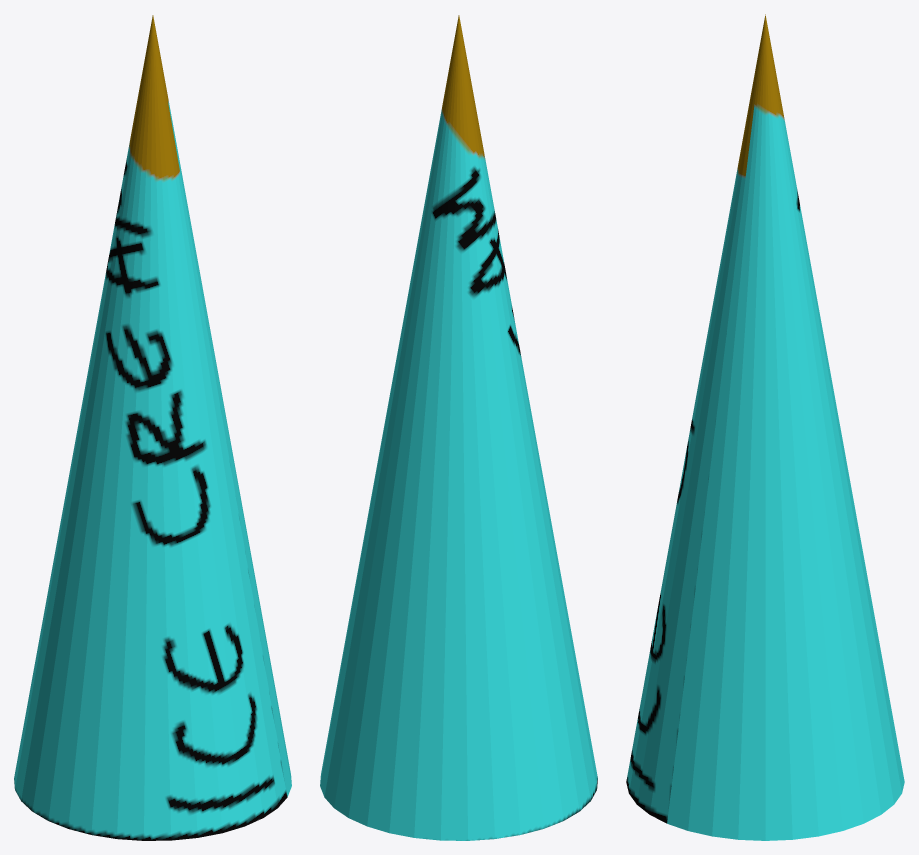
File: icecream.fbx
The picture shows the model from 3 angles, left to right: view 1: azimuth 30°, elevation 25°; view 2: azimuth 150°, elevation 25°; view 3: azimuth 270°, elevation 25°; orthographic projection.
Parts seen in each view (by area): view 1: Cone; view 2: Cone; view 3: Cone.
Boxes of the visible parts, bbox=[...] form: Cone: bbox=[14, 15, 291, 840]; Cone: bbox=[320, 15, 597, 840]; Cone: bbox=[626, 14, 904, 840].
Size of the model in its own units: 64.67 by 197 by 64.67.
